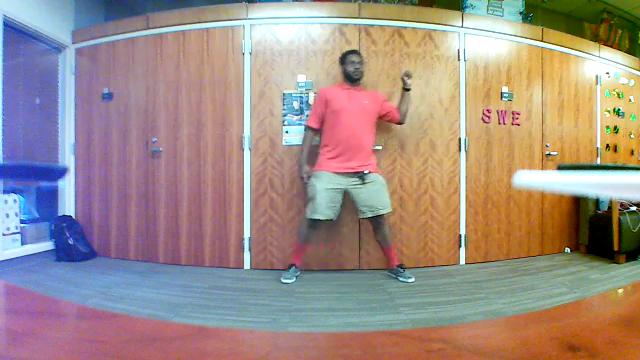up: (395, 59, 417, 94)
